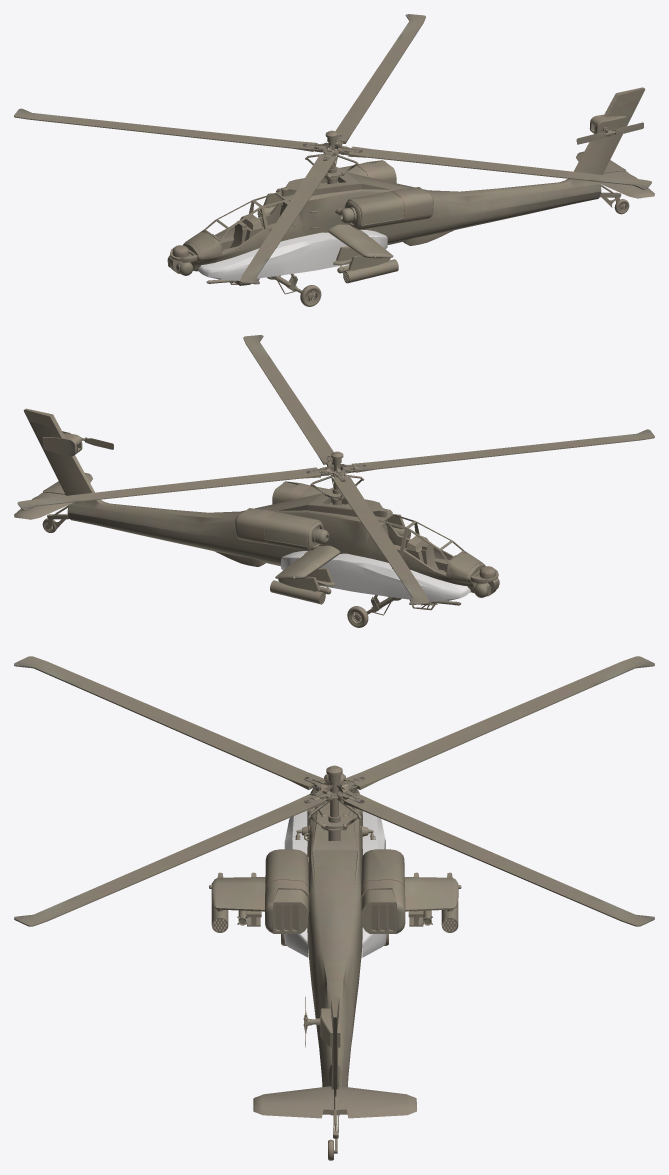
Rendered from apache15.glb.
The picture shows the model from 3 angles, top to bottom: view 1: azimuth 30°, elevation 25°; view 2: azimuth 150°, elevation 25°; view 3: azimuth 270°, elevation 25°; orthographic projection. The views are drawn at different scales.
Parts seen in each view (by area): view 1: Circle.002, Circle.012, low, Cube.001, Cube.002, Circle.004, Circle.005, Cylinder.010, Circle.001, Circle.013, Cube.004, Cylinder.015; view 2: Circle.002, Circle.012, low, Cube.001, Cube.002, Circle.004, Circle.005, Cylinder.010, Cube.004, Circle.001, Circle.013; view 3: Circle.012, Circle.002, Cube.002, Circle.005, Circle.004, Cube.001, low, Cylinder.012, Cylinder.010, Cylinder.014.
Boxes of the visible parts, bbox=[...] form: Circle.002: bbox=[183, 87, 645, 271]; Circle.012: bbox=[14, 14, 651, 284]; low: bbox=[197, 229, 387, 280]; Cube.001: bbox=[339, 165, 403, 229]; Cube.002: bbox=[357, 160, 433, 222]; Circle.004: bbox=[276, 187, 393, 258]; Circle.005: bbox=[576, 151, 654, 198]; Cylinder.010: bbox=[257, 206, 398, 283]; Circle.001: bbox=[267, 273, 321, 306]; Circle.013: bbox=[263, 193, 390, 270]; Cube.004: bbox=[589, 114, 626, 136]; Cylinder.015: bbox=[576, 122, 643, 144]; Circle.002: bbox=[23, 408, 485, 592]; Circle.012: bbox=[17, 335, 654, 604]; low: bbox=[281, 551, 470, 601]; Cube.001: bbox=[265, 486, 329, 551]; Cube.002: bbox=[235, 481, 312, 544]; Circle.004: bbox=[275, 509, 392, 579]; Circle.005: bbox=[14, 473, 92, 519]; Cylinder.010: bbox=[270, 527, 410, 604]; Cube.004: bbox=[42, 433, 82, 456]; Circle.001: bbox=[347, 568, 401, 627]; Circle.013: bbox=[278, 514, 405, 591]; Circle.012: bbox=[14, 656, 654, 926]; Circle.002: bbox=[307, 788, 362, 1115]; Cube.002: bbox=[264, 879, 405, 933]; Circle.005: bbox=[253, 1086, 416, 1118]; Circle.004: bbox=[209, 877, 461, 911]; Cube.001: bbox=[265, 849, 404, 888]; low: bbox=[284, 810, 386, 957]; Cylinder.012: bbox=[319, 765, 349, 840]; Cylinder.010: bbox=[211, 899, 458, 932]; Cylinder.014: bbox=[237, 910, 432, 926].
Bounding box in the file's own units: 3.21 × 0.8962 × 2.56.
Materials: 1 (1 with a texture image).
